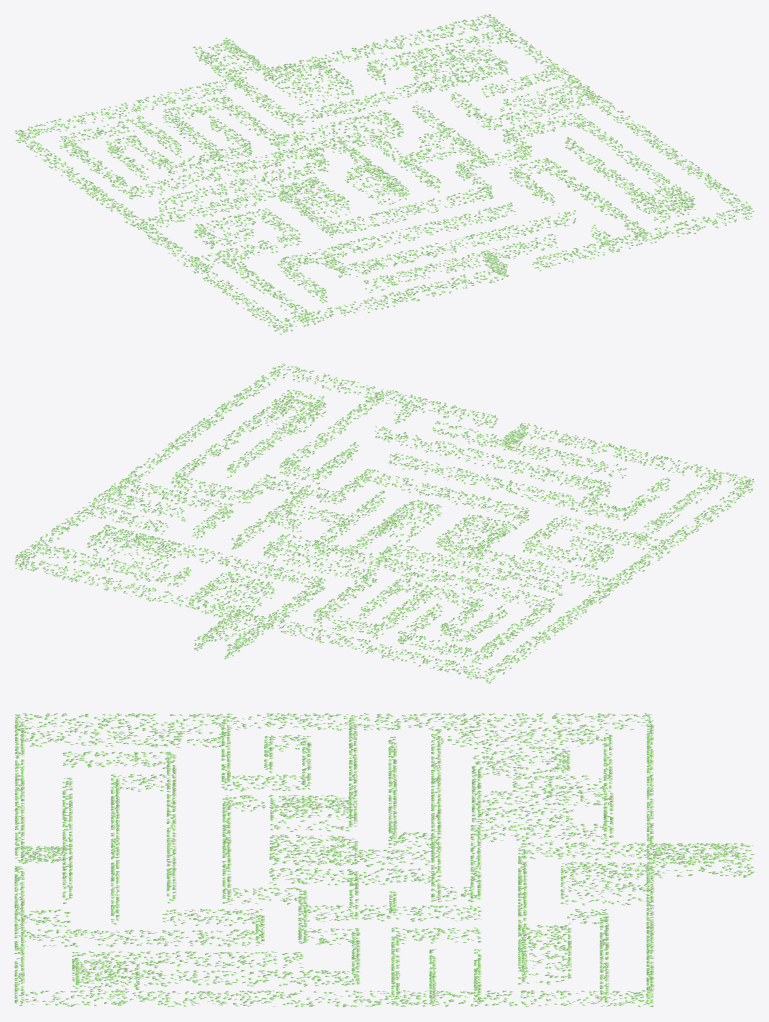
File: MazeLeaf.fbx
The picture shows the model from 3 angles, top to bottom: view 1: azimuth 30°, elevation 25°; view 2: azimuth 150°, elevation 25°; view 3: azimuth 270°, elevation 25°; orthographic projection. The views are drawn at different scales.
Visible parts, largest first — view 1: MazeWallLeaf, Object014, Object013; view 2: MazeWallLeaf, Object014, Object013; view 3: MazeWallLeaf, Object014, Object013.
Boxes of the visible parts, x1,y1,x2,y2 form: MazeWallLeaf: [15, 14, 754, 334]; Object014: [192, 38, 267, 87]; Object013: [208, 37, 270, 87]; MazeWallLeaf: [14, 363, 754, 683]; Object014: [193, 613, 269, 659]; Object013: [197, 611, 268, 641]; MazeWallLeaf: [14, 712, 654, 1007]; Object014: [652, 842, 754, 878]; Object013: [644, 844, 750, 875].
Size of the model in its own units: 660 by 26.11 by 737.
